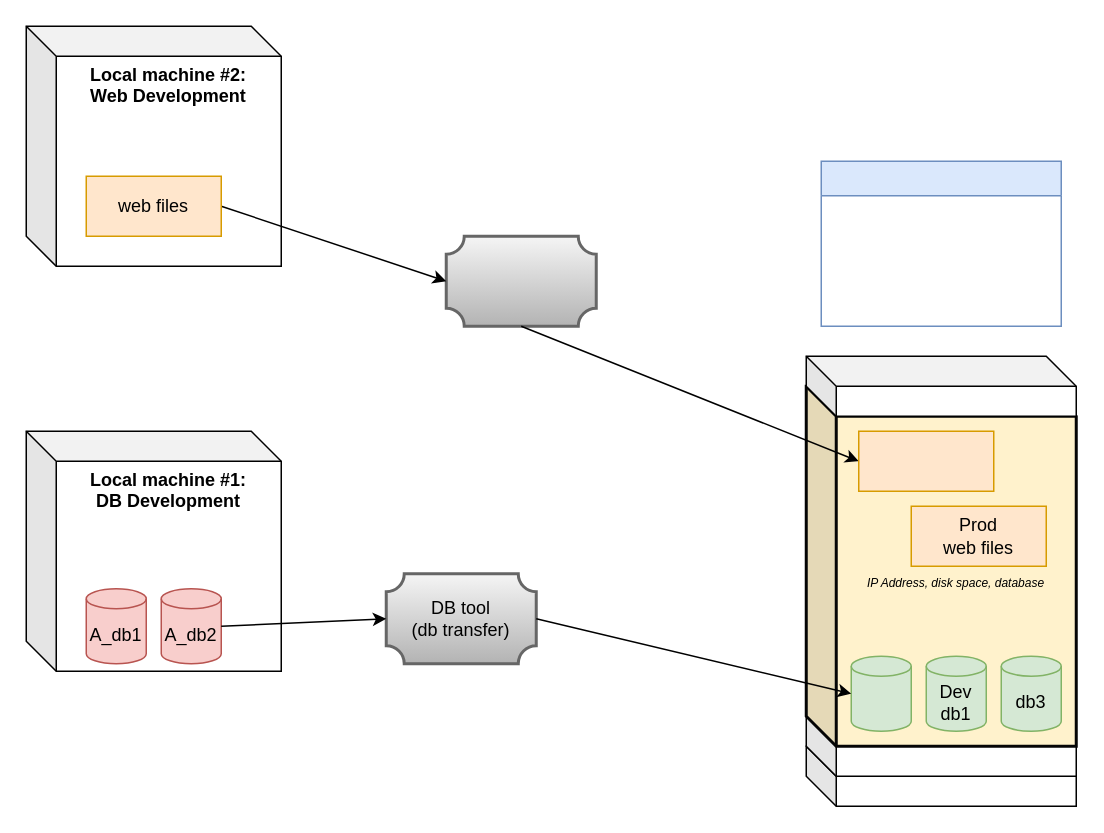
This 1104x833 diagram has some shape labels left out. The centre of each missing label's shape, as x and y in pixels:
Dev web files: point 925,460
FileZilla (file transfer): point 520,280
Prod db1: point 880,693
Web Hosting Server: point 940,385
www.DomainName.ca: point 940,243
